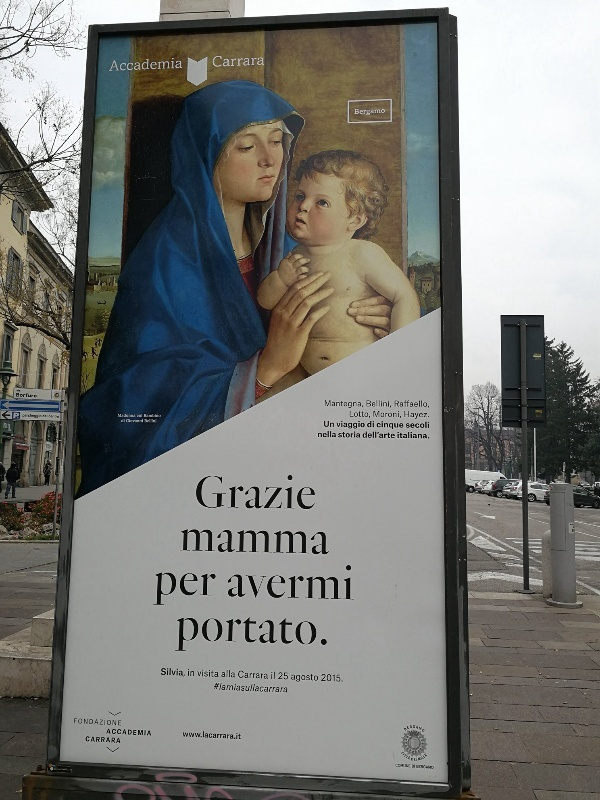text: (209, 473, 224, 516), (225, 473, 240, 516), (241, 473, 256, 516), (257, 473, 272, 516), (273, 473, 288, 516), (289, 473, 304, 516), (241, 562, 256, 603), (257, 562, 272, 603), (273, 562, 288, 603), (289, 562, 304, 603), (305, 562, 320, 603), (321, 562, 336, 603), (337, 562, 352, 603), (161, 571, 176, 611), (177, 571, 192, 611), (193, 571, 208, 611), (177, 616, 192, 655), (193, 616, 208, 655), (209, 616, 224, 655), (225, 616, 240, 655), (241, 616, 256, 655), (257, 616, 272, 655), (273, 616, 288, 655), (289, 616, 304, 655), (305, 616, 320, 655), (195, 473, 208, 516), (227, 562, 240, 603), (305, 473, 316, 516), (321, 616, 333, 655), (193, 527, 208, 557), (209, 527, 224, 557), (225, 527, 240, 557), (241, 527, 256, 557), (257, 527, 272, 557), (273, 527, 288, 557), (289, 527, 304, 557), (305, 527, 320, 557), (209, 571, 219, 611), (180, 527, 192, 557), (321, 527, 332, 557), (113, 57, 128, 73), (129, 57, 144, 73), (145, 57, 160, 73), (161, 57, 176, 73), (225, 55, 240, 69), (241, 55, 256, 69), (155, 571, 160, 611), (225, 682, 240, 695), (241, 682, 256, 695), (257, 682, 272, 695), (273, 682, 288, 695), (193, 730, 208, 741), (209, 730, 224, 741), (225, 730, 240, 741), (161, 667, 176, 678), (241, 669, 256, 680), (213, 55, 224, 69), (337, 400, 352, 410), (337, 420, 352, 430), (321, 430, 337, 439), (404, 751, 416, 763), (322, 673, 336, 683), (418, 753, 432, 763), (81, 718, 96, 727), (97, 718, 112, 727), (113, 728, 128, 737), (129, 728, 144, 737), (369, 400, 384, 409), (401, 400, 416, 409), (385, 421, 400, 430), (369, 431, 384, 440), (401, 431, 416, 440), (369, 109, 384, 118), (257, 669, 269, 680), (4, 421, 16, 432), (305, 674, 319, 683), (417, 411, 431, 420), (417, 431, 431, 440), (97, 736, 112, 744), (353, 400, 365, 410), (353, 411, 368, 419), (385, 411, 400, 419), (353, 420, 365, 430), (291, 674, 304, 683), (417, 400, 430, 409), (355, 109, 368, 118), (257, 55, 265, 69), (338, 431, 352, 439), (182, 730, 192, 741), (177, 667, 187, 678), (197, 668, 208, 678), (225, 669, 236, 679), (325, 400, 336, 410), (404, 725, 416, 734), (17, 392, 32, 399), (417, 421, 430, 429), (209, 668, 219, 678), (405, 411, 416, 420), (385, 431, 396, 440), (177, 57, 183, 73), (145, 413, 161, 419), (324, 421, 336, 429), (417, 765, 432, 771), (373, 411, 384, 419), (353, 562, 355, 603), (113, 718, 122, 727), (279, 671, 288, 680), (417, 725, 426, 734), (86, 736, 96, 744), (49, 414, 64, 419), (129, 419, 144, 424), (215, 682, 224, 690), (385, 400, 393, 409), (376, 421, 384, 430), (407, 421, 416, 429), (337, 673, 344, 683), (113, 736, 121, 744), (353, 431, 361, 439), (145, 728, 152, 737), (118, 413, 128, 419), (145, 419, 157, 424), (401, 763, 411, 769), (74, 718, 80, 727), (394, 400, 400, 409), (369, 421, 375, 429), (23, 414, 32, 419), (33, 414, 42, 419), (363, 431, 368, 440), (129, 413, 136, 419), (137, 413, 144, 419), (188, 668, 192, 678), (221, 682, 224, 695), (108, 728, 112, 737), (33, 392, 37, 399), (121, 419, 128, 423), (401, 421, 404, 430), (397, 431, 400, 440), (43, 414, 48, 419), (411, 757, 416, 762), (13, 412, 16, 420), (17, 412, 20, 420), (369, 411, 372, 419), (396, 763, 400, 769), (238, 669, 240, 680), (193, 668, 195, 678), (222, 669, 224, 679), (273, 671, 275, 680), (318, 430, 320, 439), (350, 411, 352, 419), (401, 411, 403, 419), (412, 765, 416, 769), (241, 730, 242, 741), (126, 419, 128, 424), (335, 420, 336, 430), (271, 671, 272, 680), (367, 400, 368, 409), (385, 109, 386, 118), (367, 421, 368, 429), (433, 765, 434, 771)
